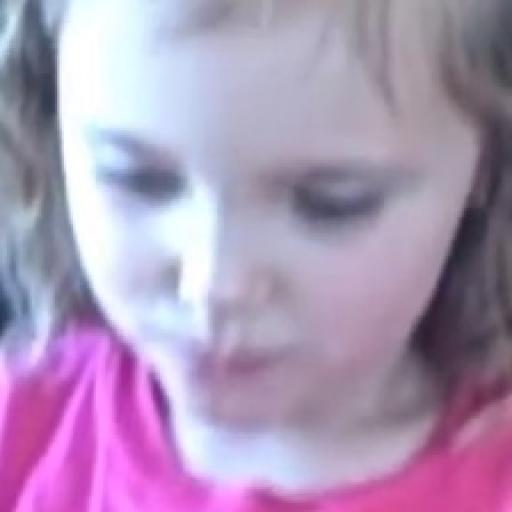Autism: (27, 0, 512, 442)
